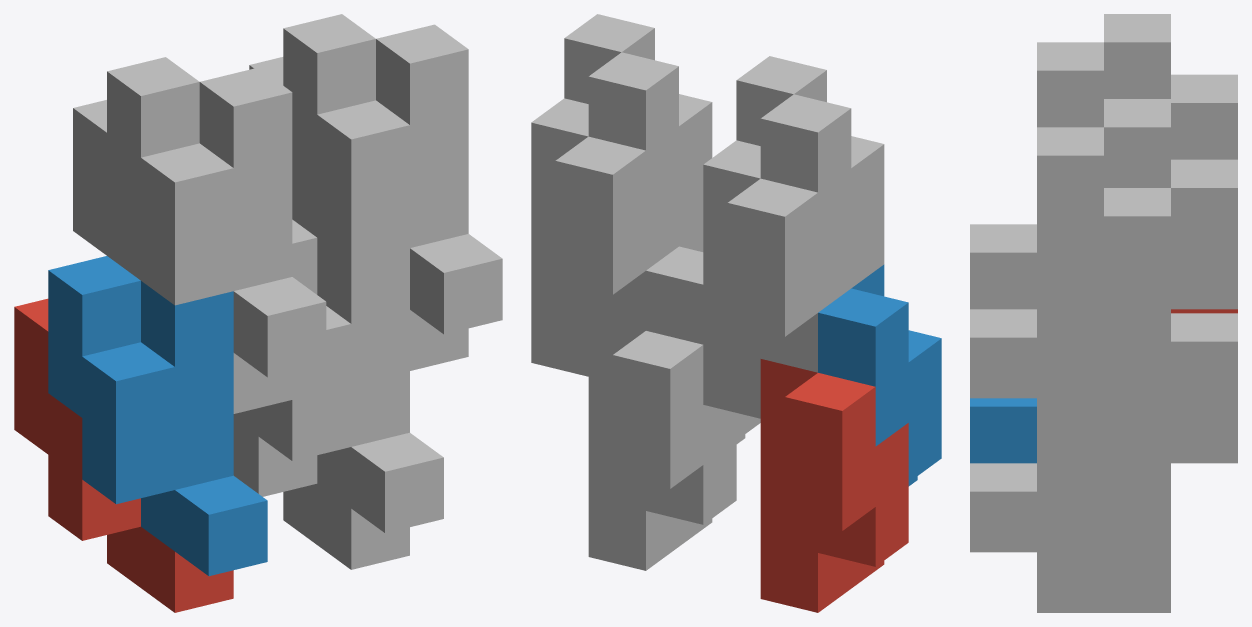
File: tiling.obj
3 views of the same model, side by side, from view 1: azimuth 30°, elevation 25°; view 2: azimuth 150°, elevation 25°; view 3: azimuth 270°, elevation 25° (orthographic). The views are drawn at different scales.
Parts seen in each view (by area): view 1: copy_1_domain_4, copy_1_domain_2, copy_1_domain_8, copy_1_domain_6, copy_1_domain_1, copy_1_domain_5, copy_1_domain_3, copy_1_domain_7; view 2: copy_1_domain_1, copy_1_domain_5, copy_1_domain_3, copy_1_domain_7, copy_1_domain_4, copy_1_domain_8, copy_1_domain_2, copy_1_domain_6; view 3: copy_1_domain_7, copy_1_domain_8, copy_1_domain_5, copy_1_domain_4, copy_1_domain_6, copy_1_domain_3, copy_1_domain_2.
Part boxes in pixels (bbox=[...]): copy_1_domain_4: bbox=[107, 57, 326, 377]; copy_1_domain_2: bbox=[48, 256, 267, 576]; copy_1_domain_8: bbox=[283, 14, 502, 334]; copy_1_domain_6: bbox=[258, 219, 443, 533]; copy_1_domain_1: bbox=[14, 298, 233, 612]; copy_1_domain_5: bbox=[233, 408, 409, 569]; copy_1_domain_3: bbox=[73, 100, 292, 413]; copy_1_domain_7: bbox=[249, 57, 468, 370]; copy_1_domain_1: bbox=[760, 359, 908, 612]; copy_1_domain_5: bbox=[588, 317, 736, 570]; copy_1_domain_3: bbox=[703, 140, 851, 418]; copy_1_domain_7: bbox=[531, 98, 678, 376]; copy_1_domain_4: bbox=[736, 56, 884, 287]; copy_1_domain_8: bbox=[564, 14, 712, 245]; copy_1_domain_2: bbox=[818, 264, 941, 486]; copy_1_domain_6: bbox=[646, 229, 760, 443]; copy_1_domain_7: bbox=[1037, 159, 1237, 458]; copy_1_domain_8: bbox=[970, 99, 1170, 398]; copy_1_domain_5: bbox=[1037, 313, 1237, 612]; copy_1_domain_4: bbox=[970, 14, 1170, 309]; copy_1_domain_6: bbox=[970, 459, 1103, 552]; copy_1_domain_3: bbox=[1171, 74, 1237, 159]; copy_1_domain_2: bbox=[970, 398, 1036, 463].
Size of the model in its own units: 6 by 8 by 4.
